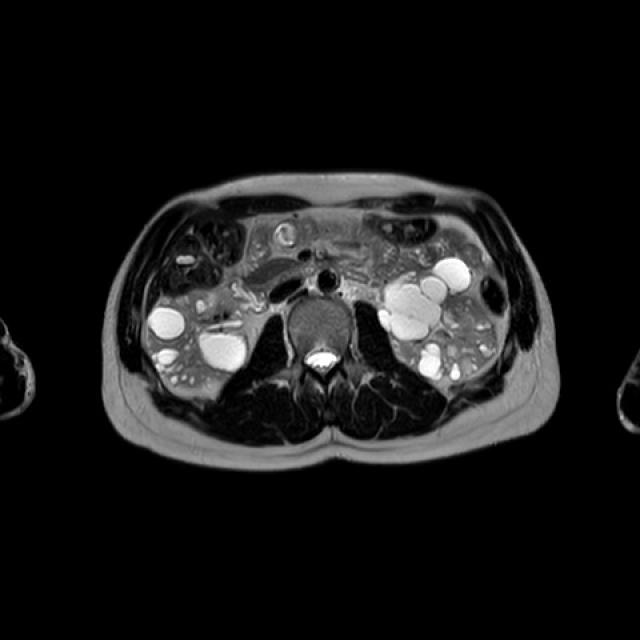sag: (143, 282, 250, 391)
sol: (376, 255, 499, 381)
